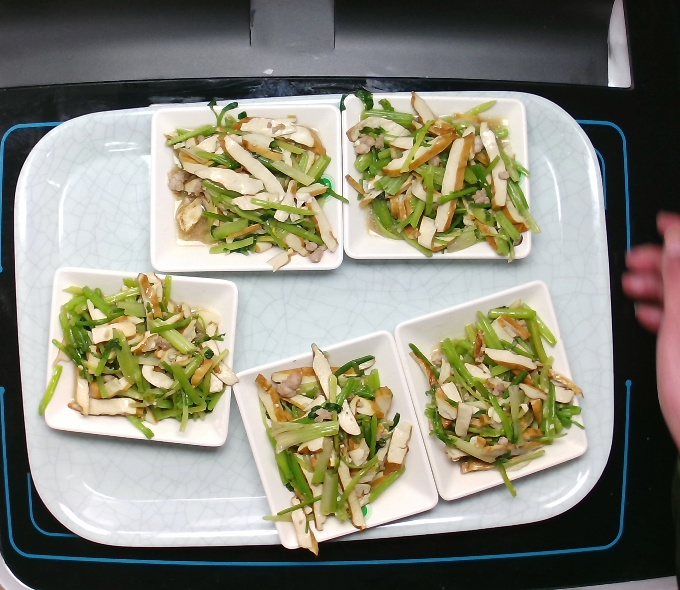wcq-XiangGanQinCai: (334, 80, 547, 267), (406, 293, 593, 501), (252, 338, 419, 559), (38, 267, 241, 442), (159, 94, 353, 276)
